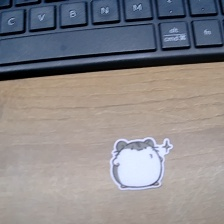mouse: (107, 134, 177, 192)
